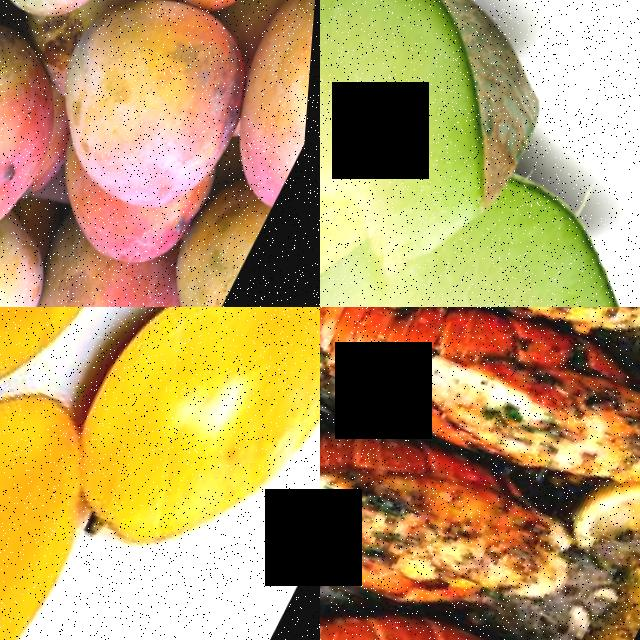lobster tails: (320, 335, 600, 640), (320, 307, 640, 531), (320, 493, 604, 640)
mango: (82, 307, 320, 605), (34, 0, 284, 236), (204, 0, 320, 218), (0, 20, 95, 264), (17, 248, 202, 307)
melon: (320, 0, 595, 307), (320, 120, 640, 307)
